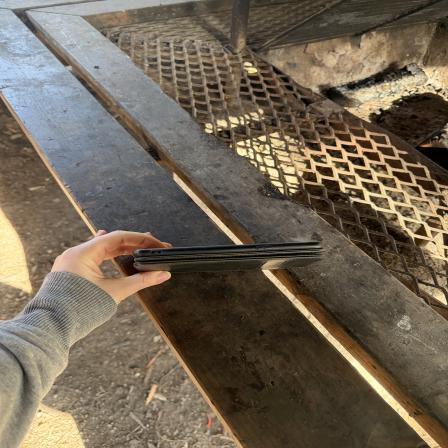phone: (130, 242, 328, 274)
